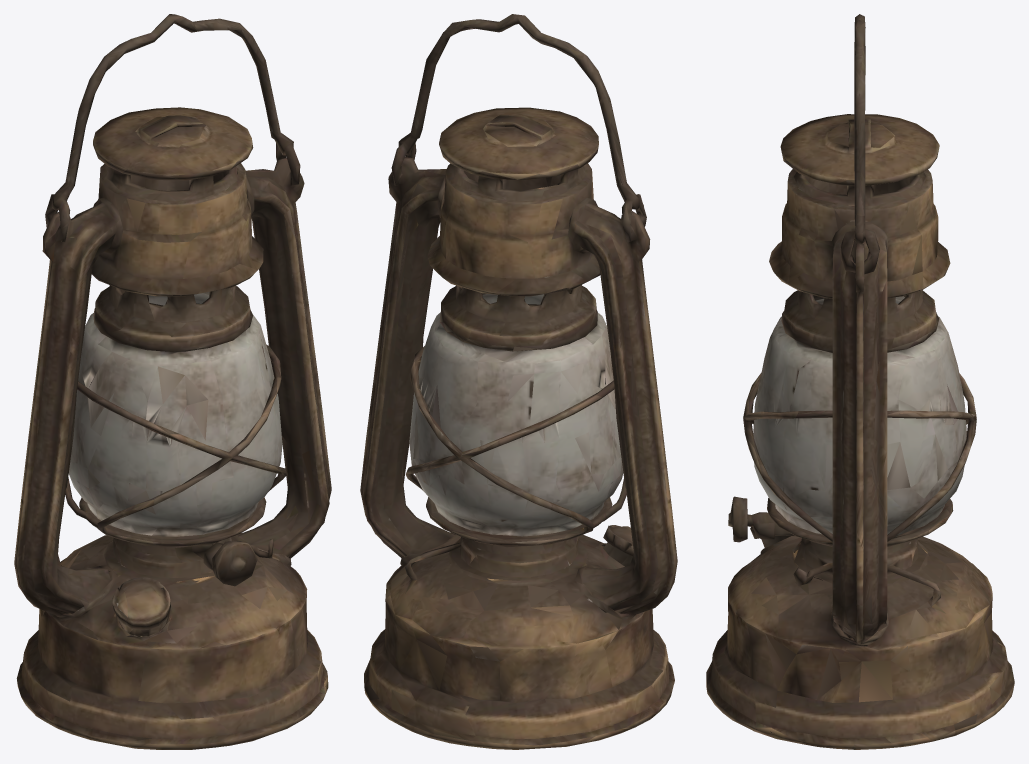
File: prop_lantern.glb
3 renders of one model, left to right at view 1: azimuth 30°, elevation 25°; view 2: azimuth 150°, elevation 25°; view 3: azimuth 270°, elevation 25°, orthographic.
Visible parts, largest first — view 1: prop; view 2: prop; view 3: prop.
Part boxes in pixels (<box>): prop: <box>14,14,331,749</box>; prop: <box>360,14,677,749</box>; prop: <box>706,14,1014,749</box>.
Size of the model in its own units: 0.1717 by 0.35 by 0.1476.
1 material, 1 textured.
